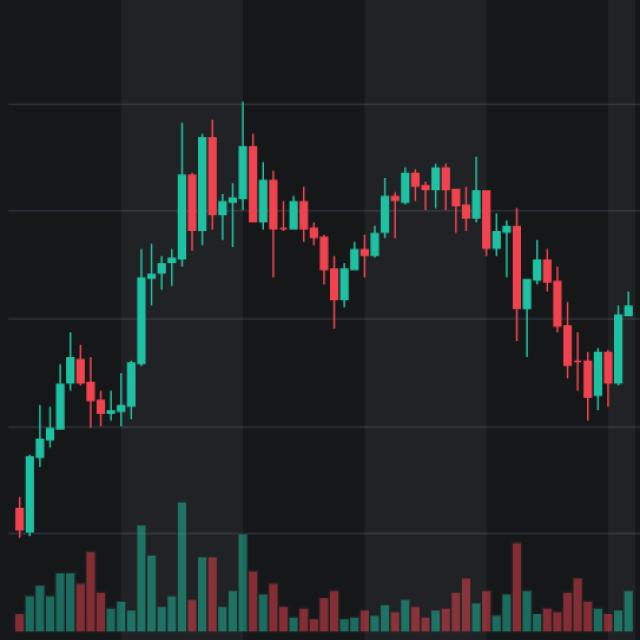Channel-down: (108, 28, 640, 478)
